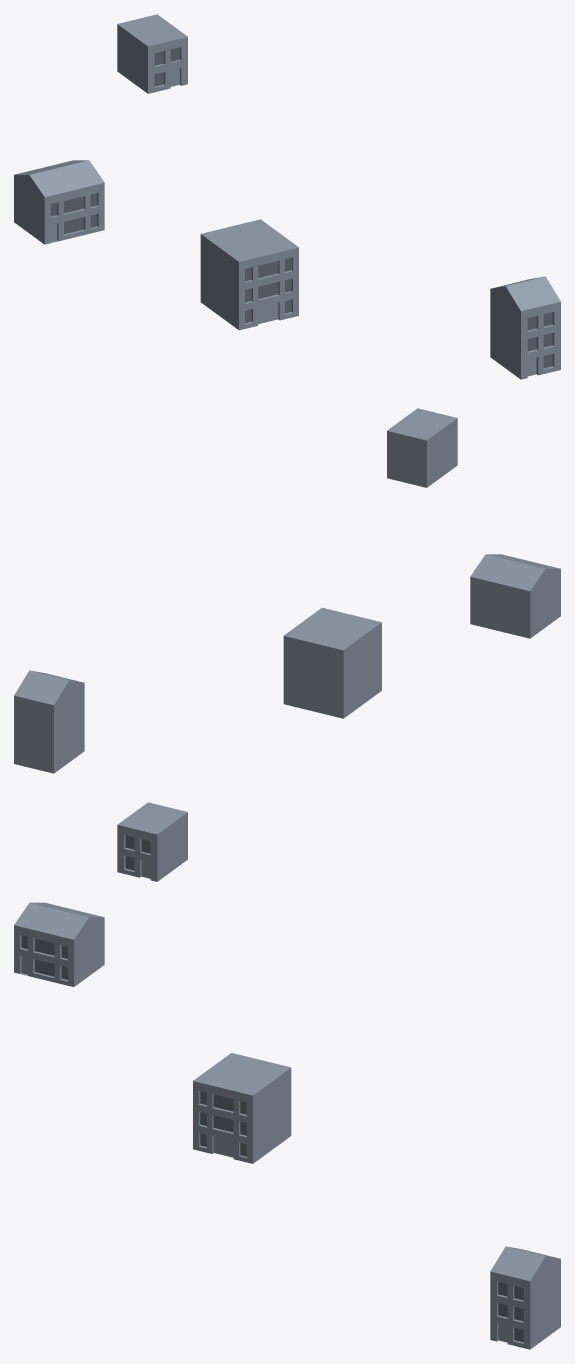
The model's file is BinaGrup9.gltf.
3 renders of one model, top to bottom at view 1: azimuth 30°, elevation 25°; view 2: azimuth 150°, elevation 25°; view 3: azimuth 330°, elevation 25°, orthographic.
Visible parts, largest first — view 1: Building_047.011, Building_069.010, Building_032.011, Building_038.011, Building_047.012, Building_032.012, Building_069.012; view 2: Building_047.011, Building_032.011, Building_069.010, Building_038.011; view 3: Building_047.011, Building_069.010, Building_032.011, Building_038.011, Building_047.012, Building_032.012.
Boxes of the visible parts, x1,y1,x2,y2 form: Building_047.011: (200,219,298,330); Building_069.010: (490,276,560,379); Building_032.011: (14,160,104,244); Building_038.011: (117,14,187,93); Building_047.012: (245,257,291,323); Building_032.012: (50,193,97,234); Building_069.012: (527,312,552,368); Building_047.011: (283,607,381,718); Building_032.011: (470,554,560,638); Building_069.010: (14,670,84,773); Building_038.011: (387,408,457,487); Building_047.011: (193,1053,291,1163); Building_069.010: (490,1246,560,1349); Building_032.011: (14,902,104,986); Building_038.011: (117,802,187,881); Building_047.012: (200,1091,246,1156); Building_032.012: (21,935,67,979).
Bounding box in the file's own units: 0.4209 × 0.3304 × 0.0543.
